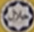halal: (5, 4, 29, 28)
